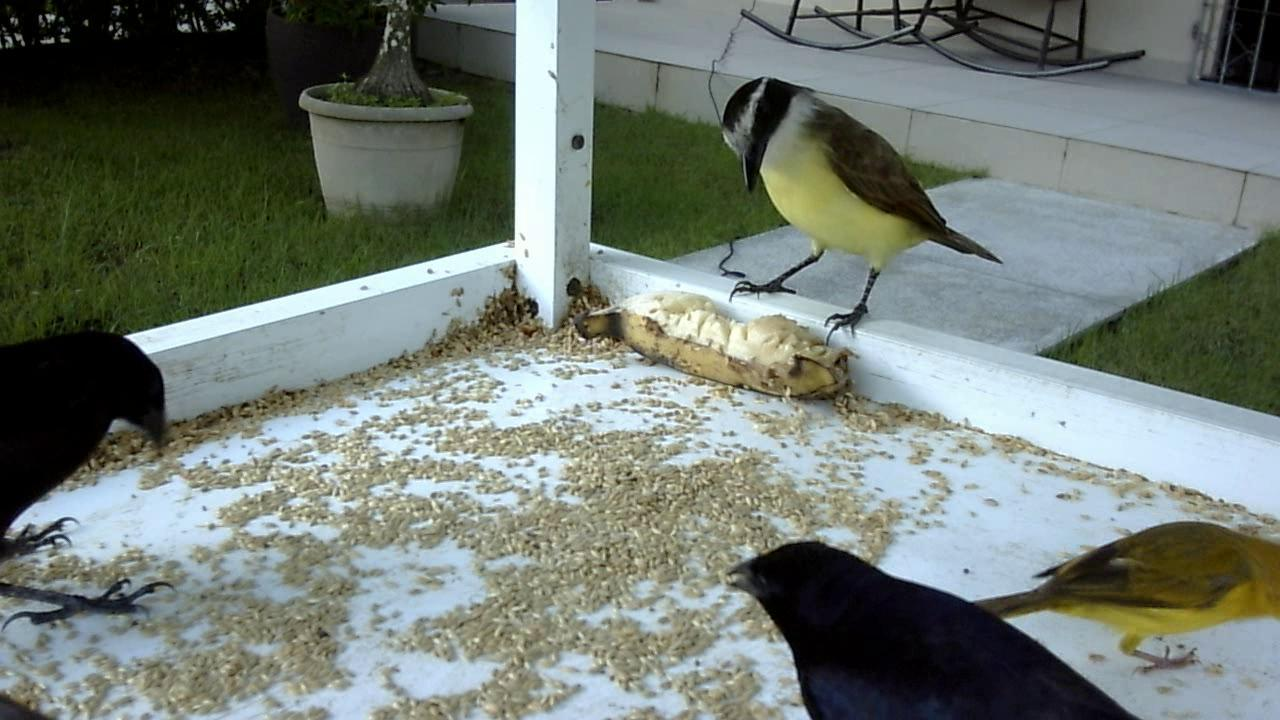bem_te_vi: (701, 58, 1015, 360)
canario_do_amazonas: (988, 505, 1268, 696)
chupim: (728, 519, 1160, 720), (1, 315, 181, 638)
